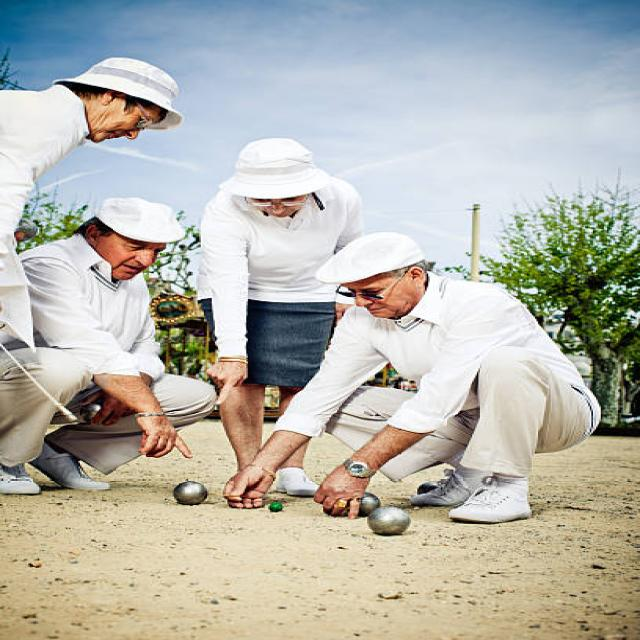hatball: (264, 501, 288, 515)
petanque: (160, 479, 215, 508), (358, 507, 409, 537), (410, 477, 439, 496), (354, 492, 378, 514)
